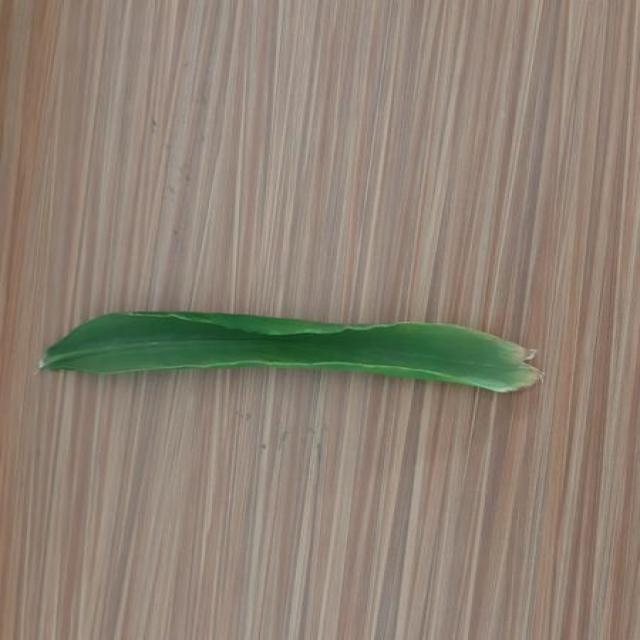ginger: (42, 312, 540, 392)
